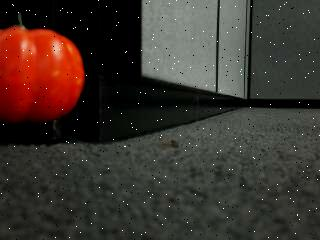Pumpkin: (0, 10, 86, 128)
